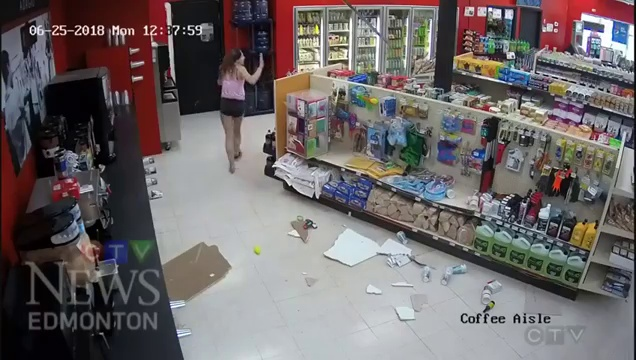face: (235, 47, 250, 64)
